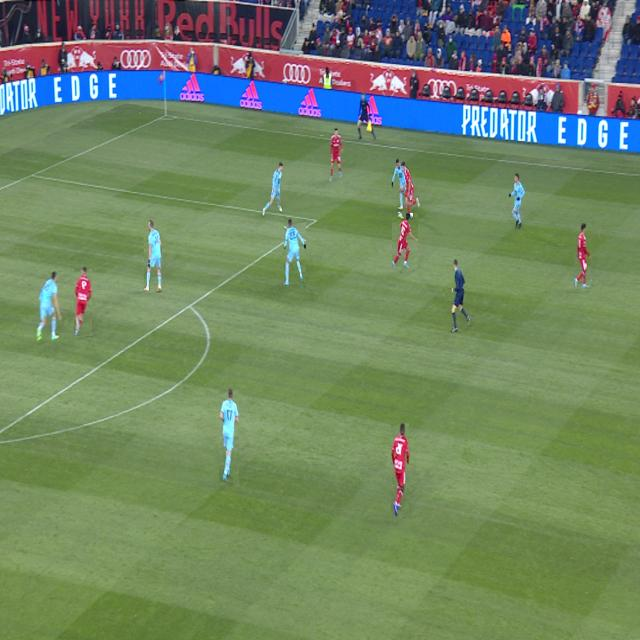football: (397, 211, 401, 219)
player: (36, 271, 62, 342), (220, 388, 239, 483), (392, 424, 409, 517), (284, 220, 306, 286), (392, 214, 418, 269), (144, 220, 162, 291), (75, 267, 92, 336), (262, 162, 283, 216), (401, 161, 420, 220), (575, 224, 591, 289), (509, 173, 525, 229), (329, 128, 344, 182), (392, 159, 407, 209)
referee: (451, 259, 470, 332)
